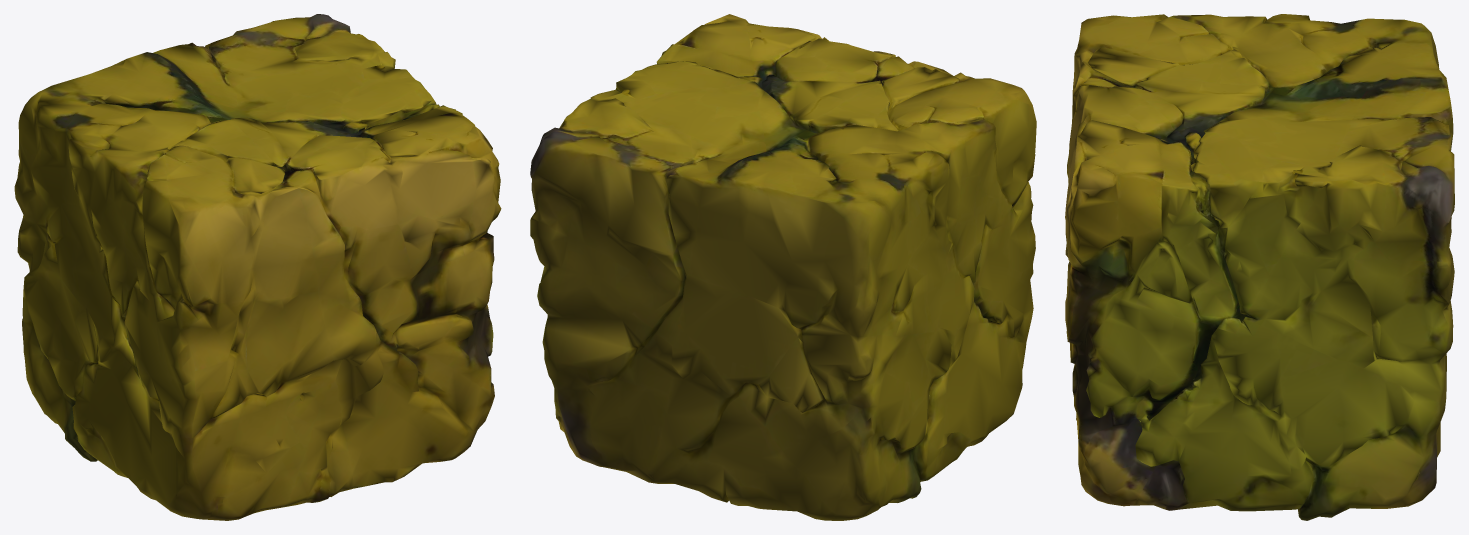
The model's file is cube_cracked.glb.
The picture shows the model from 3 angles, left to right: view 1: azimuth 30°, elevation 25°; view 2: azimuth 150°, elevation 25°; view 3: azimuth 270°, elevation 25°; orthographic projection. The views are drawn at different scales.
Parts seen in each view (by area): view 1: tripo_node_f4afa083; view 2: tripo_node_f4afa083; view 3: tripo_node_f4afa083.
Part boxes in pixels (box(x1,y1,x2,y2)): tripo_node_f4afa083: box(14, 14, 501, 520); tripo_node_f4afa083: box(530, 14, 1036, 520); tripo_node_f4afa083: box(1065, 14, 1454, 520).
Size of the model in its own units: 0.966 by 0.9293 by 0.9188.
1 material, 1 textured.
